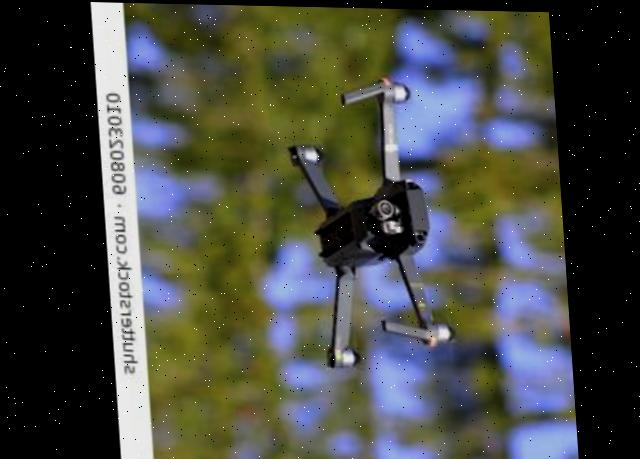drone: (90, 2, 401, 459)
